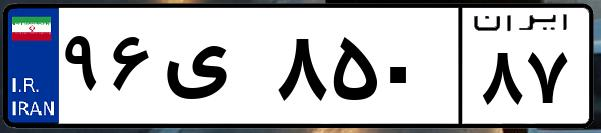0: (385, 28, 445, 110)
5: (330, 28, 385, 110)
6: (110, 28, 158, 98)
7: (525, 38, 570, 115)
8: (270, 28, 330, 110), (475, 38, 525, 113)
9: (57, 26, 110, 100)
ی: (158, 20, 270, 120)
